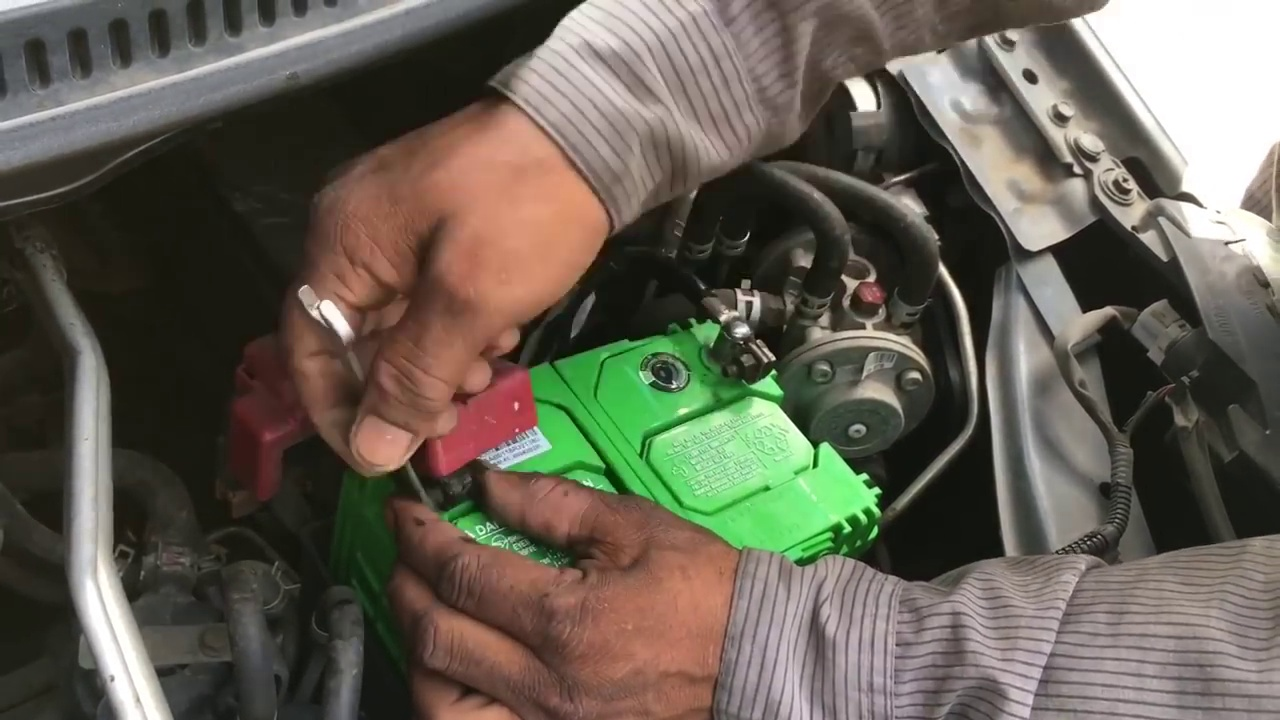battery: (372, 283, 885, 623)
neg_connected: (693, 280, 780, 399)
pos_touched: (294, 300, 536, 594)
